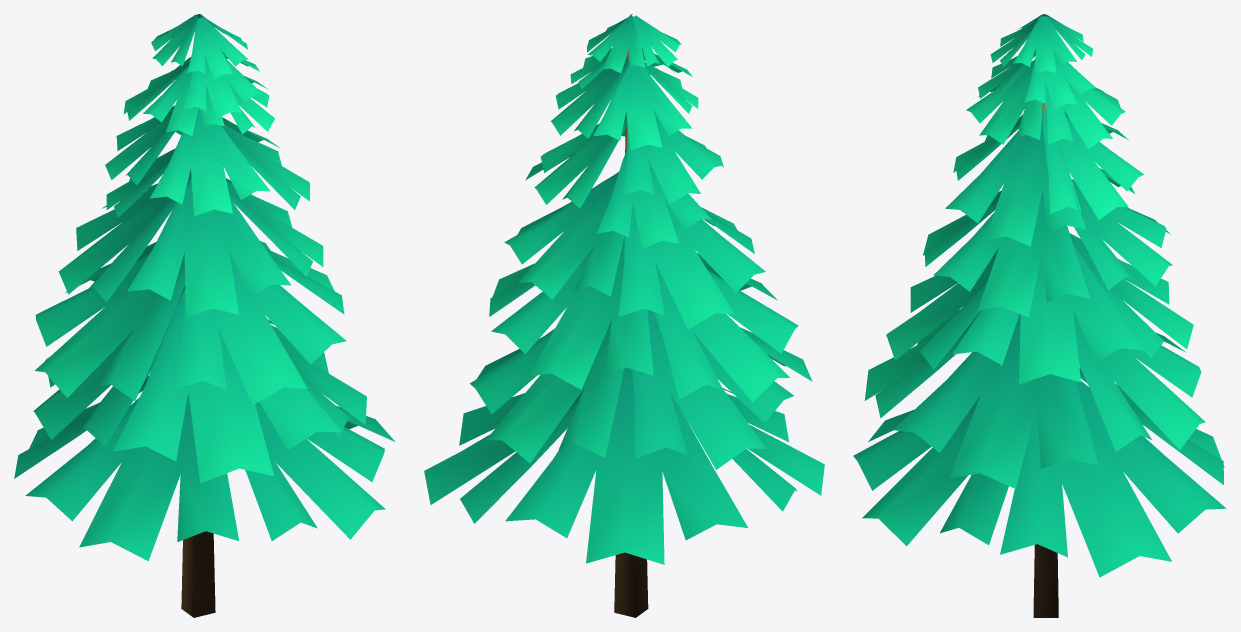
3 renders of one model, left to right at view 1: azimuth 30°, elevation 25°; view 2: azimuth 150°, elevation 25°; view 3: azimuth 270°, elevation 25°, orthographic.
Parts seen in each view (by area): view 1: TreeVC; view 2: TreeVC; view 3: TreeVC.
Part boxes in pixels (x1,y1,x2,y2): TreeVC: (14,14,394,617); TreeVC: (424,14,824,617); TreeVC: (853,14,1226,617).
Bounding box in the file's own units: 6.38 × 10.79 × 6.12.
Materials: 1 (1 with a texture image).
